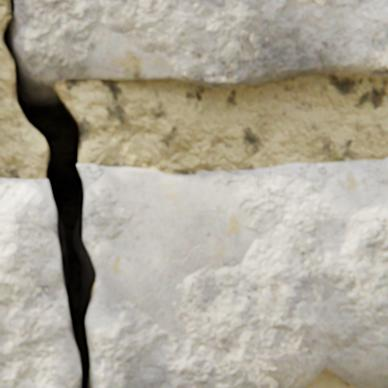brick: (15, 0, 387, 88)
broken_brick: (77, 157, 387, 387), (0, 178, 80, 387)
crack: (0, 0, 96, 387)
